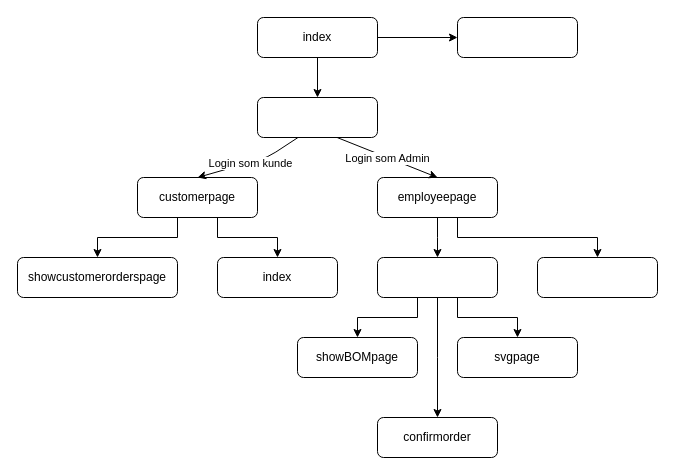
Some shapes in this 675 by 475 pixel diagram are drawn without their labels. Here are the shapes that lost their labels. From the top down, the box of each, then its label:
(456, 16, 578, 58): registerpage
(256, 96, 378, 138): loginpage
(376, 256, 498, 298): showallorderspage
(536, 256, 658, 298): materialslistpage
